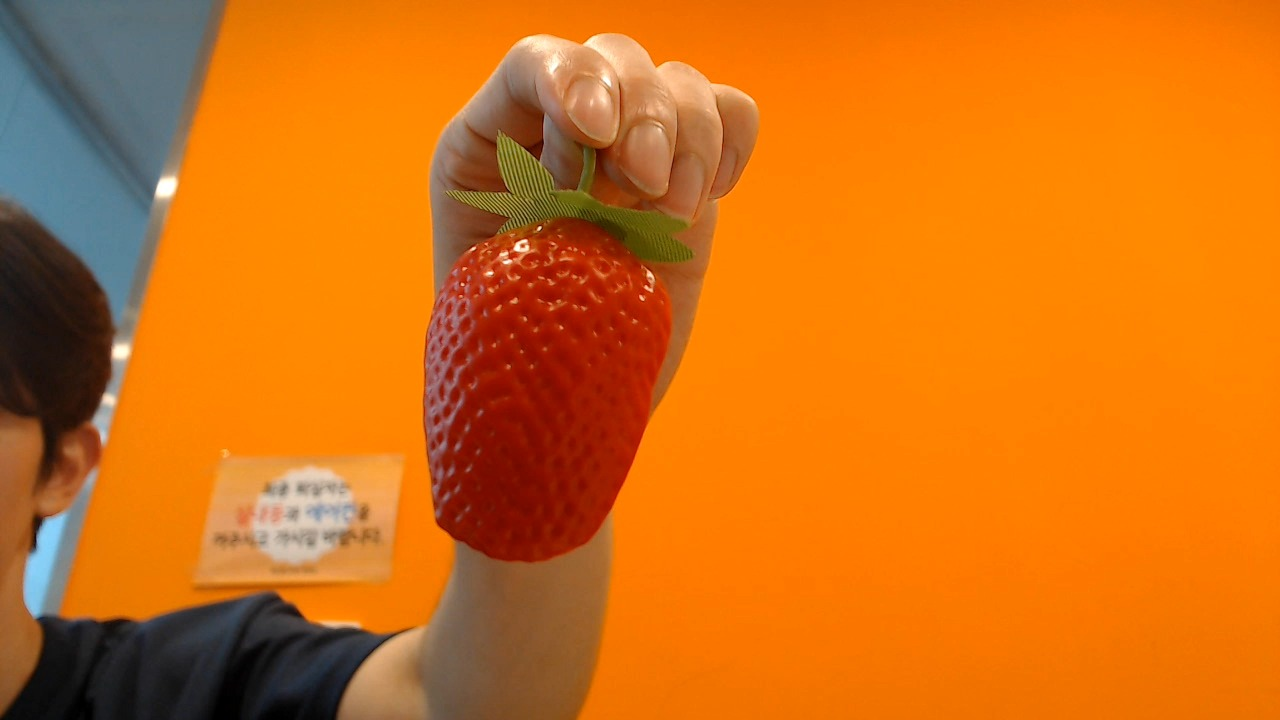strawberry: (422, 173, 671, 563)
